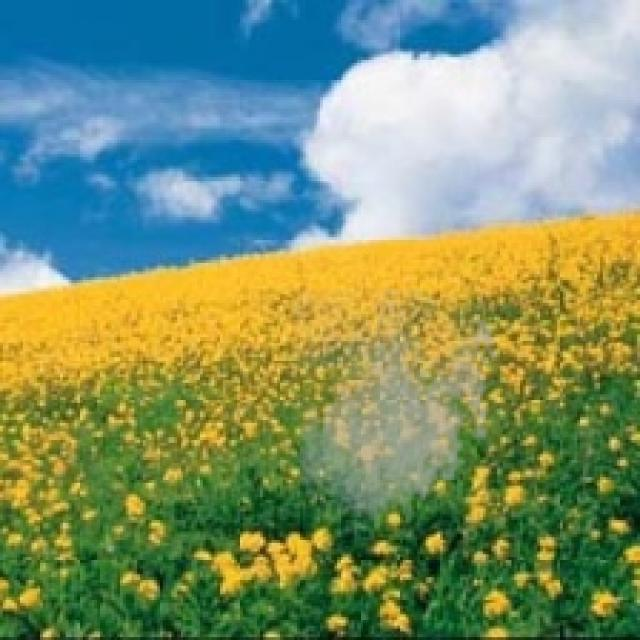Smoke: (291, 288, 503, 534)
